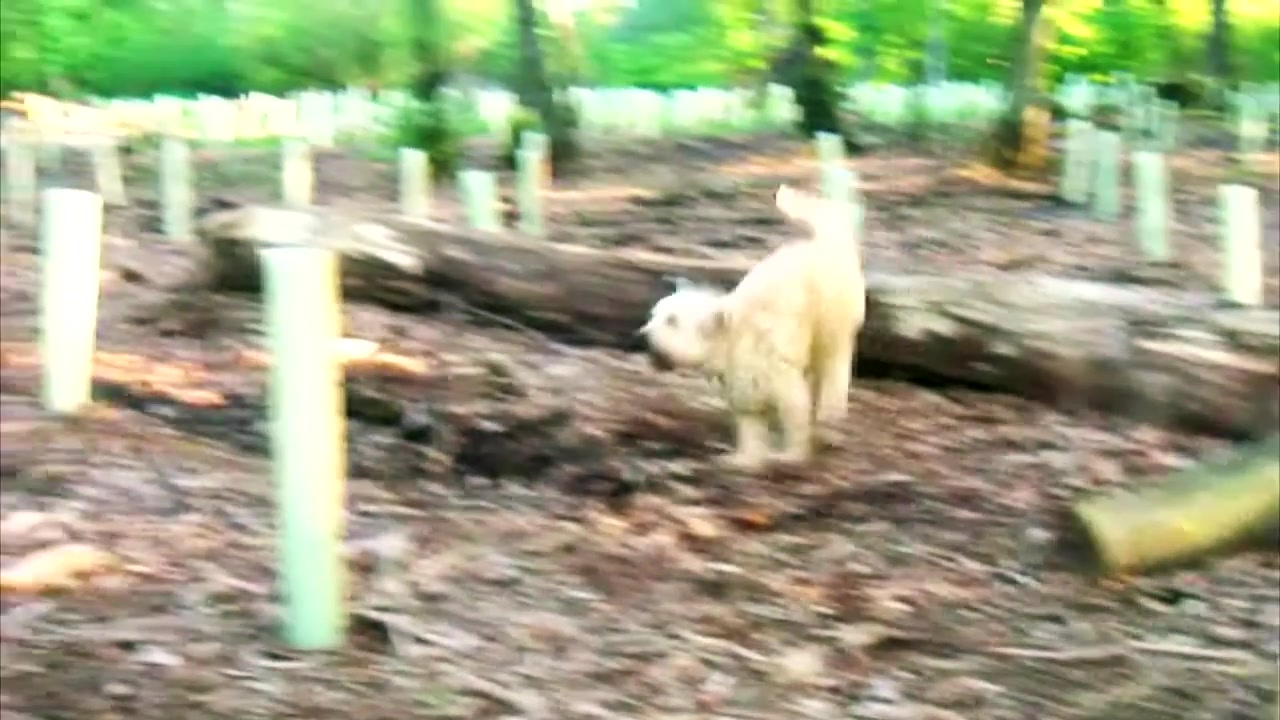dog: (640, 186, 873, 472)
